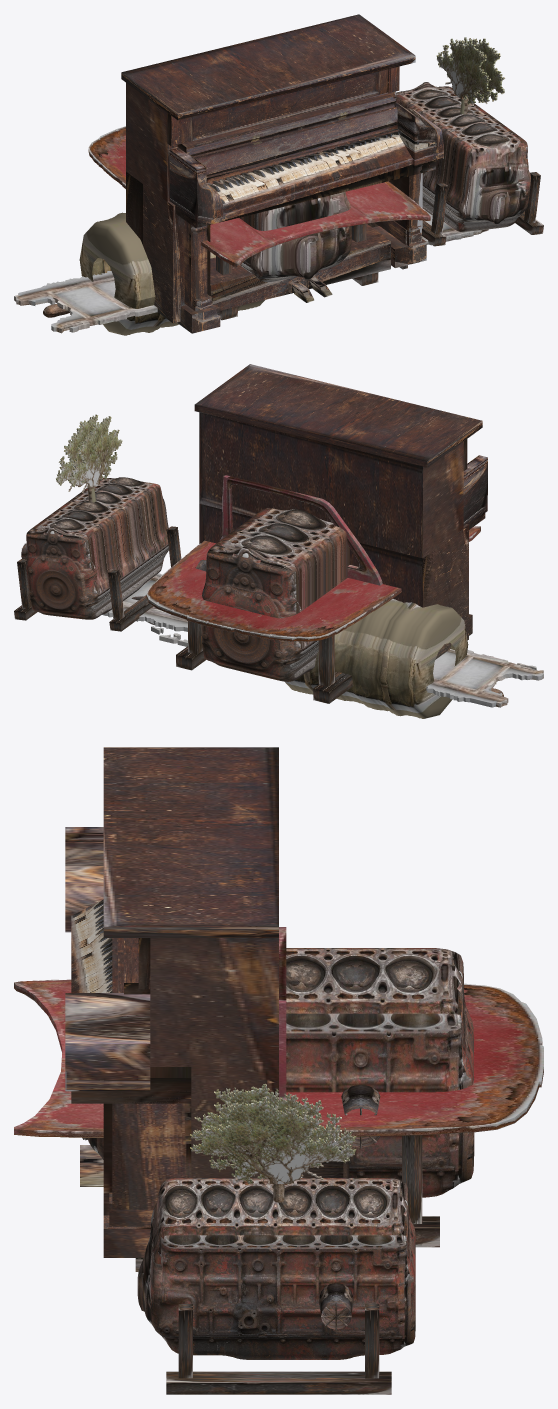
Rendered from crew-favours.glb.
3 views of the same model, one above another, from view 1: azimuth 30°, elevation 25°; view 2: azimuth 150°, elevation 25°; view 3: azimuth 270°, elevation 25° (orthographic). The views are drawn at different scales.
Visible parts, largest first — view 1: piano-upright, regret-engine-open-engine, regret-bonnet, open-engine, dune-camp-bedroll, dune-ladder, regret-engine-leaves, regret-engine-open-engine-stand, open-engine-stand; view 2: piano-upright, open-engine, regret-engine-open-engine, dune-camp-bedroll, regret-bonnet, dune-ladder, regret-engine-leaves, regret-door, open-engine-stand, regret-engine-open-engine-stand; view 3: piano-upright, regret-engine-open-engine, open-engine, regret-bonnet, regret-engine-leaves, regret-engine-open-engine-stand, open-engine-stand, regret-door, regret-engine-open-engine-exhaust, open-engine-exhaust.
Part boxes in pixels (box(x1,y1,x2,y2)): piano-upright: box(121, 14, 443, 333); regret-engine-open-engine: box(396, 82, 530, 231); regret-bonnet: box(88, 126, 430, 267); open-engine: box(239, 192, 351, 281); dune-camp-bedroll: box(79, 212, 264, 335); dune-ladder: box(14, 211, 488, 333); regret-engine-leaves: box(436, 37, 504, 105); regret-engine-open-engine-stand: box(422, 172, 543, 246); open-engine-stand: box(216, 224, 378, 320); piano-upright: box(194, 364, 487, 659); open-engine: box(201, 508, 349, 681); regret-engine-open-engine: box(26, 477, 168, 619); dune-camp-bedroll: box(285, 599, 468, 718); regret-bonnet: box(146, 526, 480, 641); dune-ladder: box(102, 573, 543, 707); regret-engine-leaves: box(56, 414, 122, 492); regret-door: box(220, 475, 382, 585); open-engine-stand: box(176, 621, 353, 703); regret-engine-open-engine-stand: box(14, 526, 181, 631); piano-upright: box(65, 747, 278, 1271); regret-engine-open-engine: box(137, 1178, 415, 1359); open-engine: box(82, 948, 474, 1197); regret-bonnet: box(14, 979, 543, 1137); regret-engine-leaves: box(190, 1083, 356, 1183); regret-engine-open-engine-stand: box(166, 1304, 391, 1394); open-engine-stand: box(402, 1135, 439, 1247); regret-door: box(279, 927, 286, 1099); regret-engine-open-engine-exhaust: box(319, 1283, 353, 1329); open-engine-exhaust: box(341, 1084, 380, 1147).
Size of the model in its own units: 2.98 by 1.53 by 1.81.
Materials: 20 (20 with a texture image).
